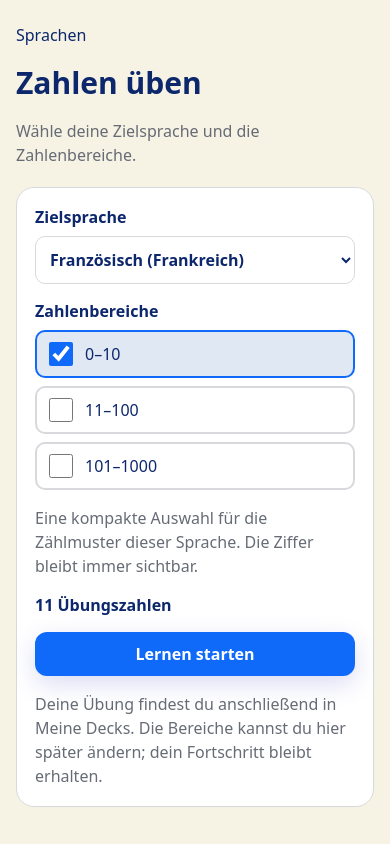
Test case: number practice setup › inherits French, offers only configuration and counts the agreed compact selection
expect the button "Lernen starten" is enabled: met, box top-left (35, 632), bottom-right (355, 676)
expect the dropdown labelled "Zielsprache" shows "Französisch (Frankreich)": met, box top-left (35, 236), bottom-right (355, 284)
What coordinates should you click on to do the following:
click the checkbox labelled "11–100"
I would click on:
 (61, 410)
Its box is top-left (49, 398), bottom-right (73, 422).
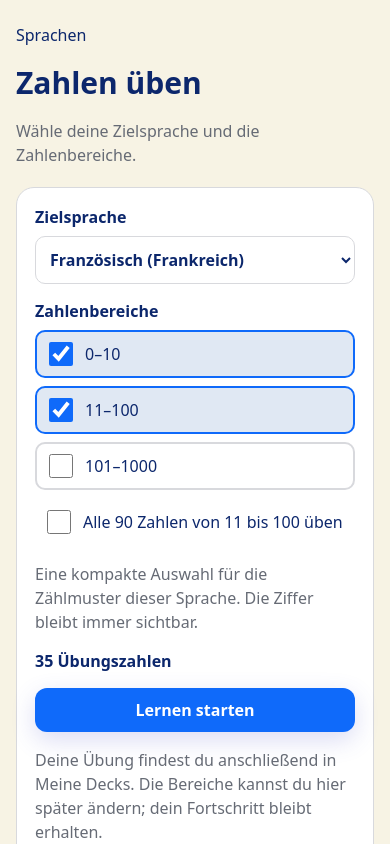
expect the message reads "35 Übungszahlen": met, box top-left (35, 650), bottom-right (172, 672)
What coordinates should you click on to do the following:
click the checkbox labelled "Alle 90 Zahlen von 11 bis 100 üben"
I would click on:
 (59, 522)
Its box is top-left (47, 510), bottom-right (71, 534).
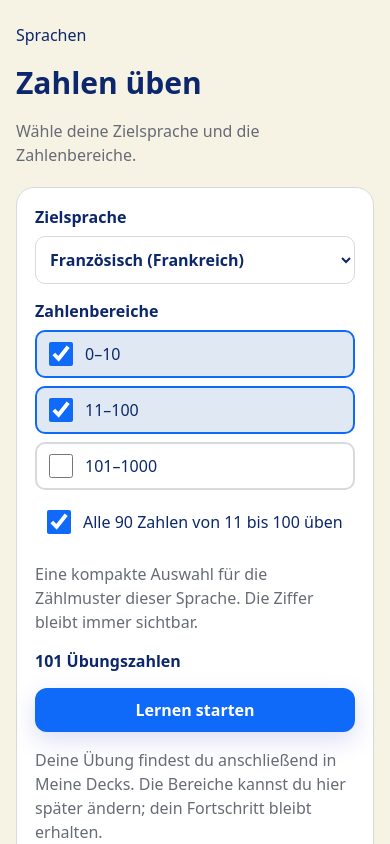
expect the message reads "101 Übungszahlen": met, box top-left (35, 650), bottom-right (181, 672)
What coordinates should you click on to do the following:
click the checkbox labelled "0–10"
I would click on:
 (61, 354)
Its box is top-left (49, 342), bottom-right (73, 366).
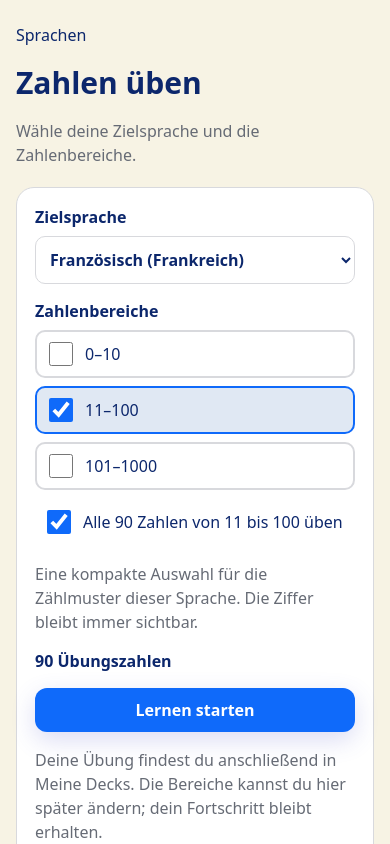
expect the message reads "90 Übungszahlen": met, box top-left (35, 650), bottom-right (172, 672)
